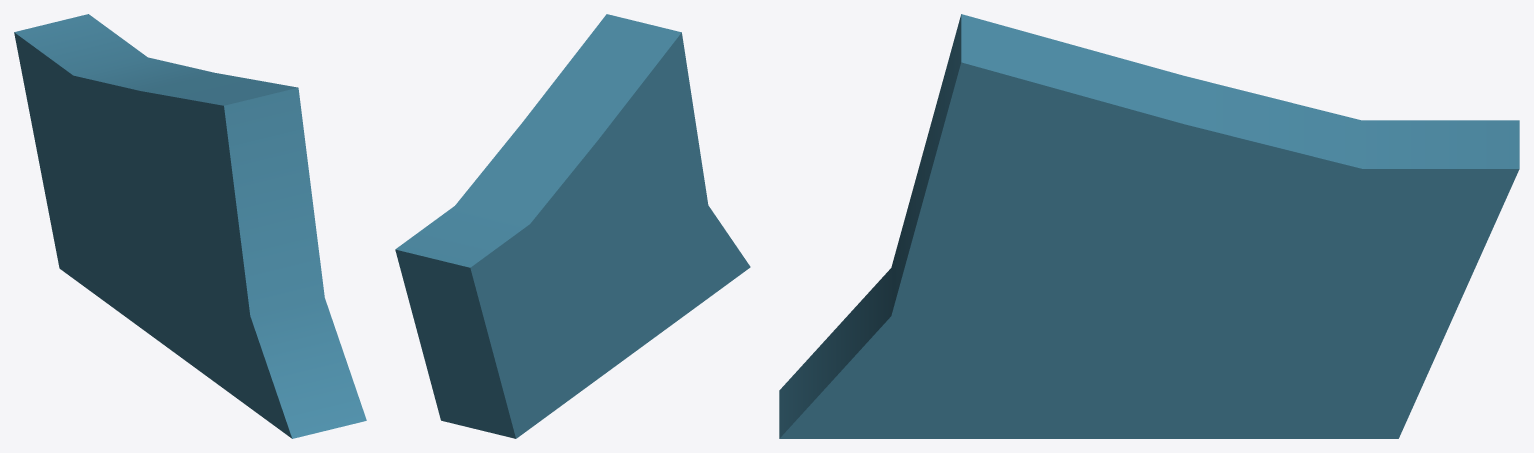
File: NexusC_Trigger_31.fbx
The picture shows the model from 3 angles, left to right: view 1: azimuth 30°, elevation 25°; view 2: azimuth 150°, elevation 25°; view 3: azimuth 270°, elevation 25°; orthographic projection. The views are drawn at different scales.
Visible parts, largest first — view 1: polySurface14; view 2: polySurface14; view 3: polySurface14.
Part boxes in pixels (box(x1,y1,x2,y2)): polySurface14: box(14, 14, 366, 438); polySurface14: box(395, 14, 750, 438); polySurface14: box(779, 14, 1519, 438).
Size of the model in its own units: 10.17 by 36.89 by 65.73.
